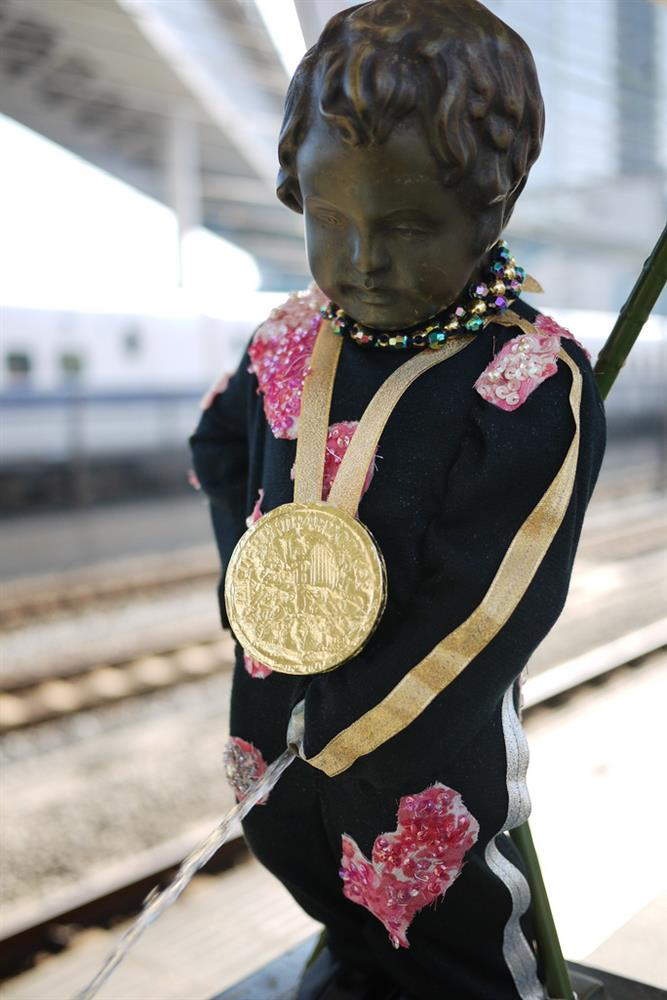Manneken_Pis: (193, 7, 603, 979)
